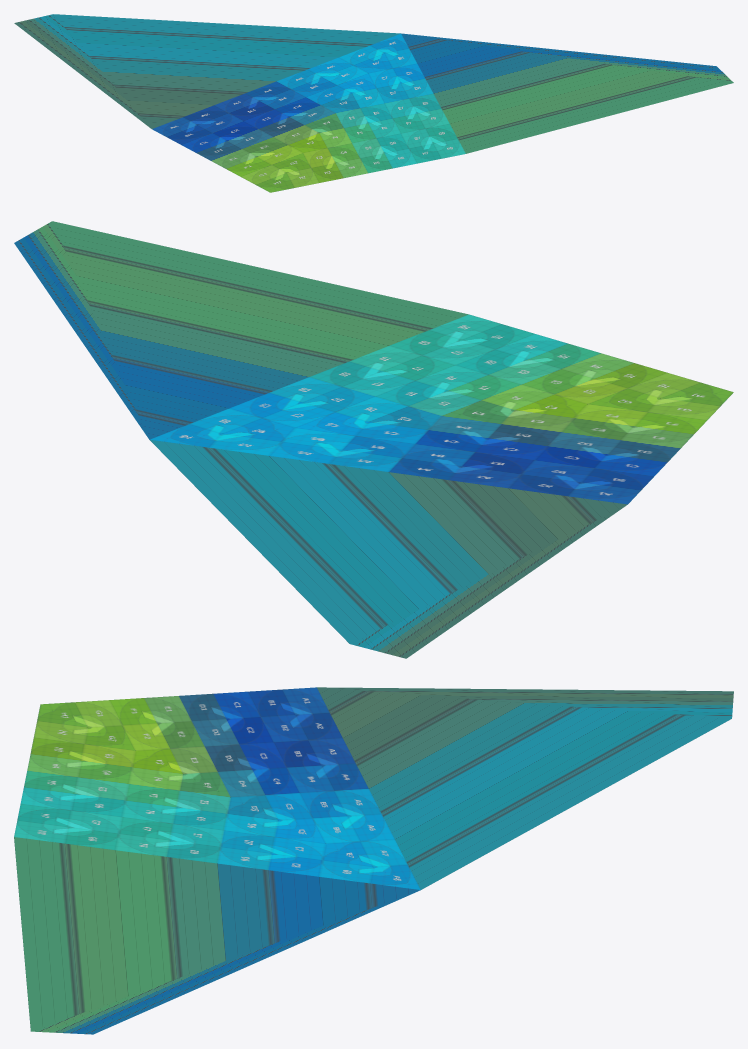
The model's file is GrassBorder5Collider.fbx.
3 views of the same model, one above another, from view 1: azimuth 30°, elevation 25°; view 2: azimuth 150°, elevation 25°; view 3: azimuth 270°, elevation 25° (orthographic). The views are drawn at different scales.
Parts seen in each view (by area): view 1: GrassBorder007; view 2: GrassBorder007; view 3: GrassBorder007.
Boxes of the visible parts, bbox=[...] form: GrassBorder007: bbox=[14, 14, 733, 192]; GrassBorder007: bbox=[14, 221, 733, 658]; GrassBorder007: bbox=[14, 687, 733, 1034].
Size of the model in its own units: 12.17 by 8.88e-16 by 10.67.
Materials: 1 (1 with a texture image).
